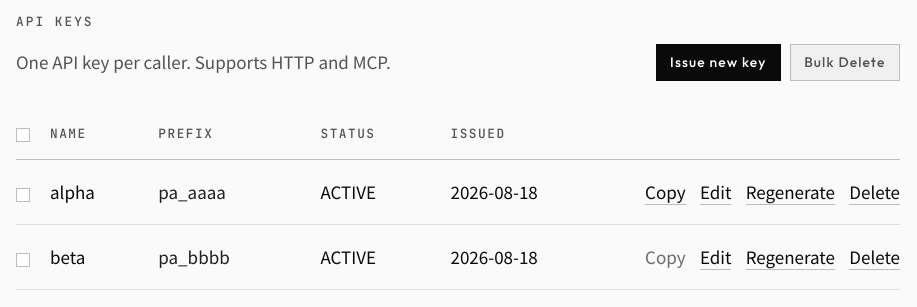
Test: KeysScreen copy secret › should_copy_full_secret_when_copy_clicked
Click the button with test id "keys-copy-alpha": (665,192) [645,180,686,205]
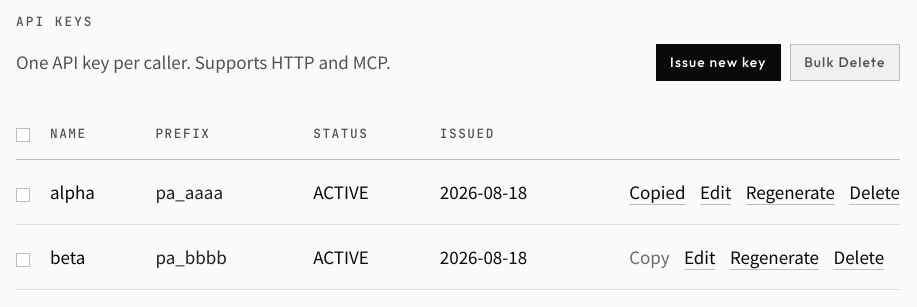
Expected: the button with test id "keys-copy-alpha" reads "Copied", [629,180,686,205]
